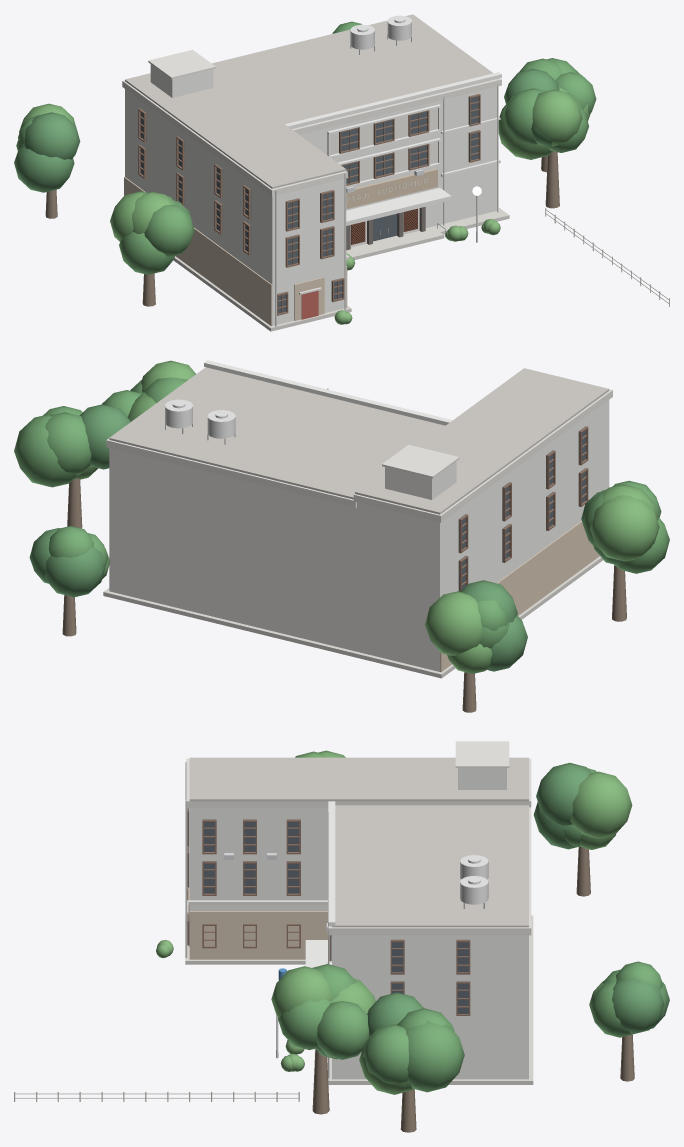
The model's file is Netaji_Auditorium.glb.
The picture shows the model from 3 angles, top to bottom: view 1: azimuth 30°, elevation 25°; view 2: azimuth 150°, elevation 25°; view 3: azimuth 270°, elevation 25°; orthographic projection. The views are drawn at different scales.
Visible parts, largest first — view 1: Netaji_Auditorium; view 2: Netaji_Auditorium; view 3: Netaji_Auditorium.
Part boxes in pixels (x1,y1,x2,y2): Netaji_Auditorium: [14, 14, 669, 331]; Netaji_Auditorium: [14, 360, 669, 712]; Netaji_Auditorium: [14, 741, 669, 1132].
Size of the model in its own units: 61.93 by 19.18 by 59.94.
Materials: 72 (2 with a texture image).
